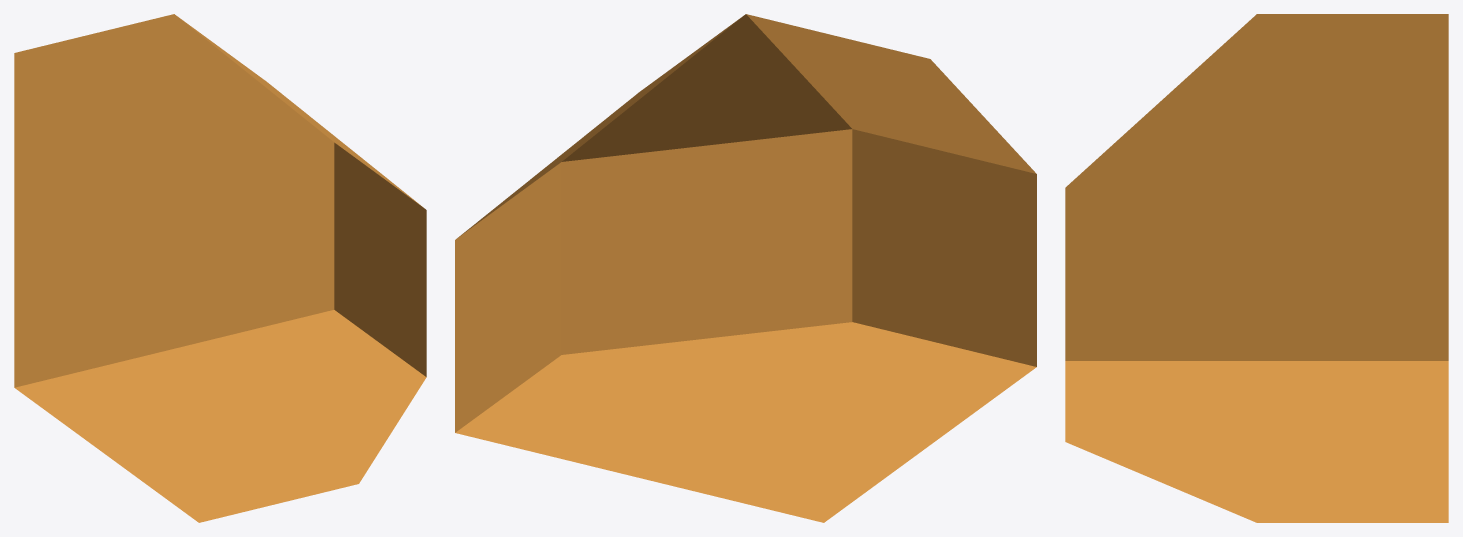
File: r5c6_border_orange.gltf
The picture shows the model from 3 angles, left to right: view 1: azimuth 30°, elevation 25°; view 2: azimuth 150°, elevation 25°; view 3: azimuth 270°, elevation 25°; orthographic projection. The views are drawn at different scales.
Parts seen in each view (by area): view 1: r5c6_border_orange; view 2: r5c6_border_orange; view 3: r5c6_border_orange.
Boxes of the visible parts, box(x1,y1,x2,y2) form: r5c6_border_orange: box(14, 14, 426, 522); r5c6_border_orange: box(455, 14, 1036, 522); r5c6_border_orange: box(1065, 14, 1448, 522).
Bounding box in the file's own units: 2.1 × 2.1 × 2.1.
1 material, 1 textured.
